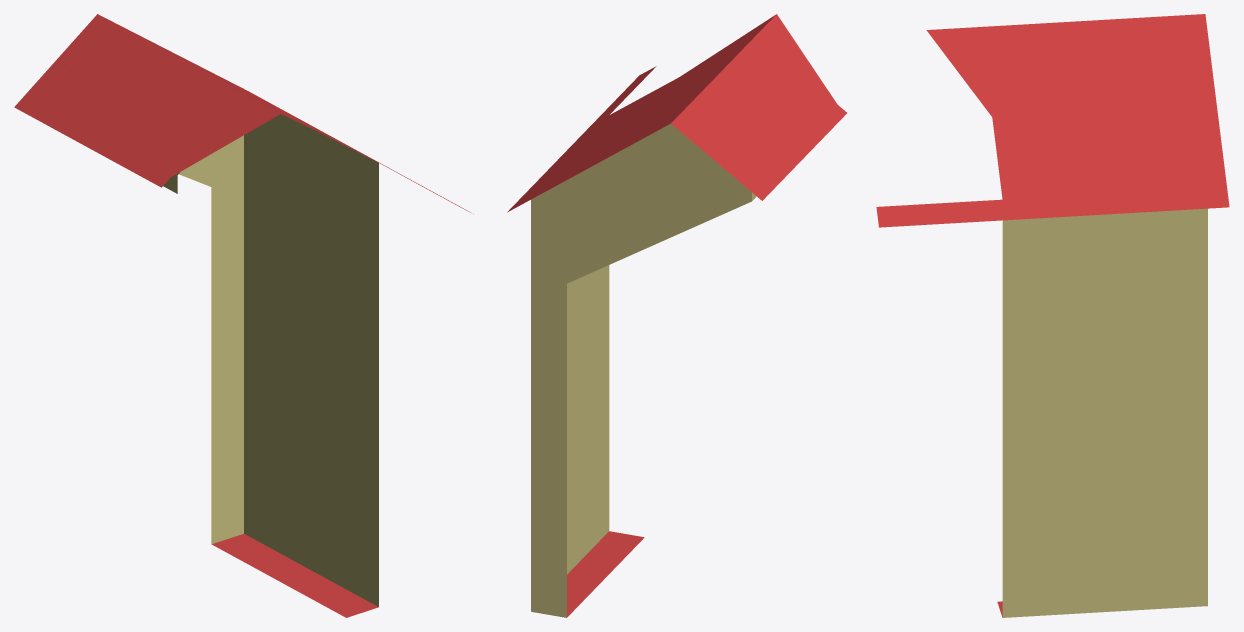
The picture shows the model from 3 angles, left to right: view 1: azimuth 30°, elevation 25°; view 2: azimuth 150°, elevation 25°; view 3: azimuth 270°, elevation 25°; orthographic projection. The views are drawn at different scales.
Size of the model in its own units: 8.48 by 9.26 by 15.16.
